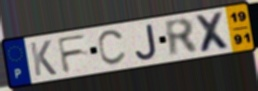C: (96, 28, 128, 68)
F: (55, 32, 89, 75)
J: (134, 22, 159, 62)
K: (28, 39, 58, 78)
R: (162, 16, 202, 59)
X: (193, 10, 234, 55)
